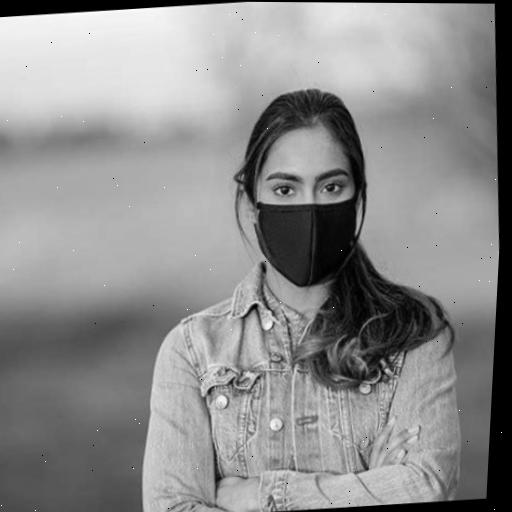mask: (228, 81, 377, 293)
